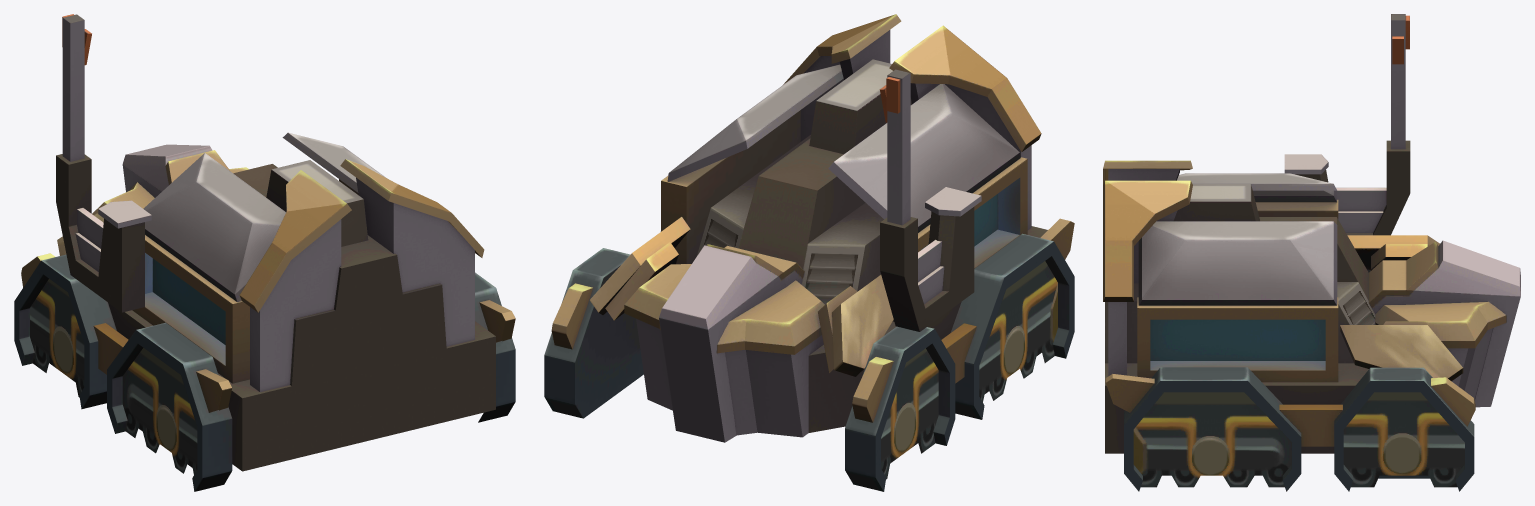
Rendered from S_survive_MCV.fbx.
3 renders of one model, left to right at view 1: azimuth 30°, elevation 25°; view 2: azimuth 150°, elevation 25°; view 3: azimuth 270°, elevation 25°, orthographic. The views are drawn at different scales.
Visible parts, largest first — view 1: S_survive_MCV; view 2: S_survive_MCV; view 3: S_survive_MCV.
Part boxes in pixels (x1,y1,x2,y2): S_survive_MCV: [14, 14, 515, 491]; S_survive_MCV: [544, 14, 1074, 491]; S_survive_MCV: [1103, 14, 1520, 491].
Size of the model in its own units: 0.8669 by 0.969 by 1.08.
Materials: 1 (1 with a texture image).
